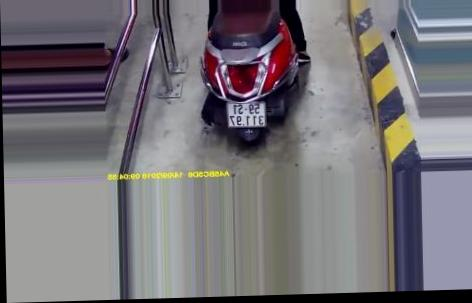License_Plate: (223, 97, 269, 130)
